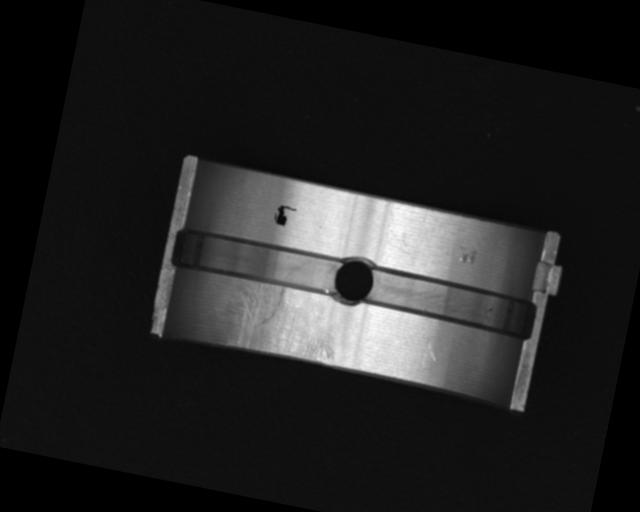blot: (272, 203, 296, 228)
bruise: (459, 247, 478, 265)
gap: (363, 266, 539, 339), (172, 226, 347, 299)
hole: (327, 252, 376, 310)
nick: (415, 317, 442, 362)
scratch: (220, 278, 343, 365)
